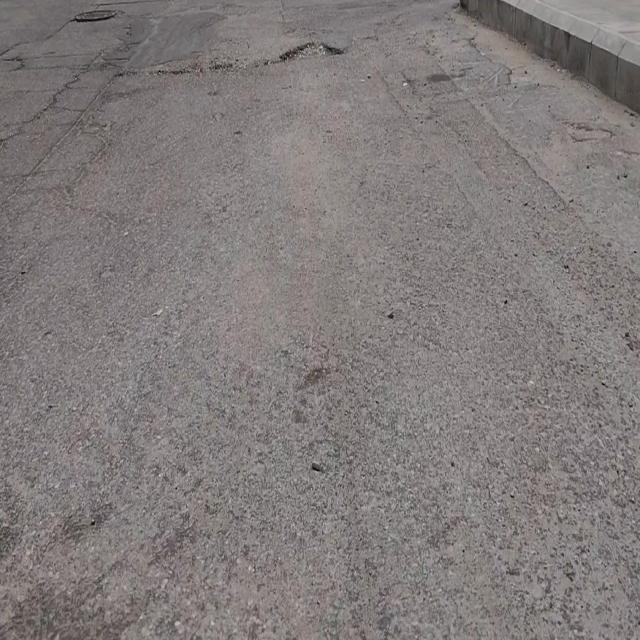Potholes: (278, 36, 345, 63)
